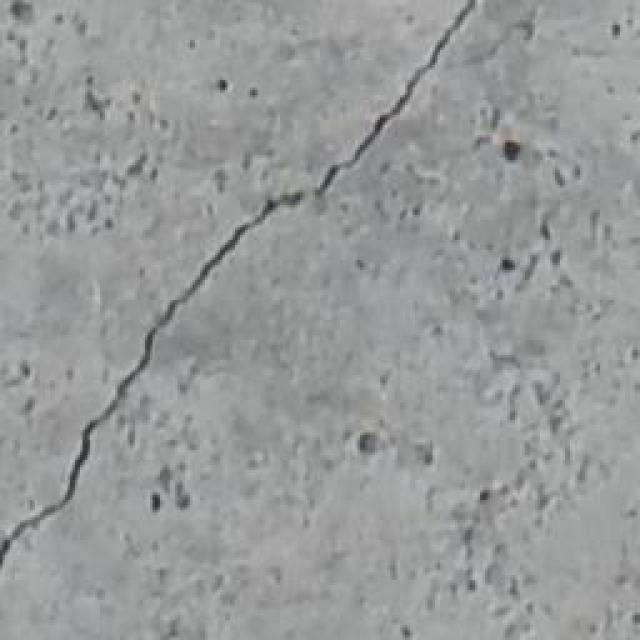concrete-crack: (0, 0, 480, 572)
